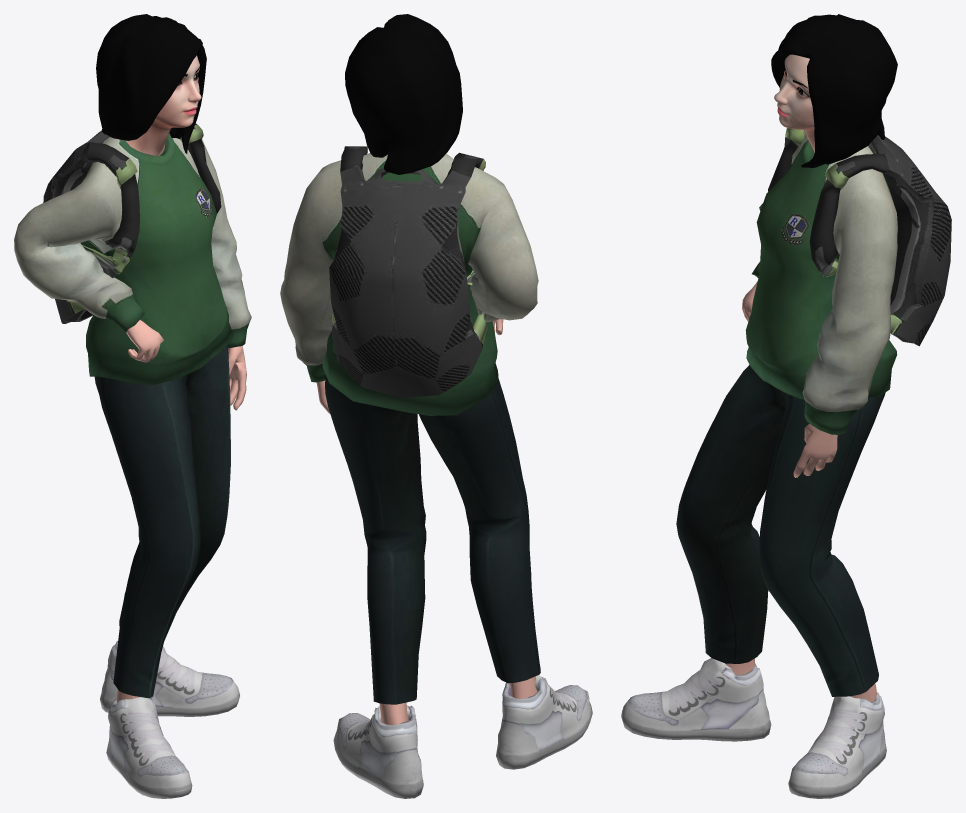
The model's file is green.glb.
The picture shows the model from 3 angles, left to right: view 1: azimuth 30°, elevation 25°; view 2: azimuth 150°, elevation 25°; view 3: azimuth 270°, elevation 25°; orthographic projection. The views are drawn at different scales.
Visible parts, largest first — view 1: Wolf3D_Outfit_Top.001, Wolf3D_Outfit_Bottom.001, Wolf3D_Outfit_Footwear.001, Wolf3D_Hair.001, Wolf3D_Head.001, Wolf3D_Body.001; view 2: Wolf3D_Outfit_Top.001, Wolf3D_Outfit_Bottom.001, Wolf3D_Hair.001, Wolf3D_Outfit_Footwear.001, Wolf3D_Body.001; view 3: Wolf3D_Outfit_Top.001, Wolf3D_Outfit_Bottom.001, Wolf3D_Outfit_Footwear.001, Wolf3D_Hair.001, Wolf3D_Head.001, Wolf3D_Body.001.
Boxes of the visible parts, bbox=[...] form: Wolf3D_Outfit_Top.001: bbox=[14, 123, 251, 384]; Wolf3D_Outfit_Bottom.001: bbox=[94, 345, 230, 698]; Wolf3D_Outfit_Footwear.001: bbox=[100, 641, 239, 798]; Wolf3D_Hair.001: bbox=[96, 14, 206, 153]; Wolf3D_Head.001: bbox=[126, 55, 201, 155]; Wolf3D_Body.001: bbox=[116, 320, 246, 702]; Wolf3D_Outfit_Top.001: bbox=[280, 146, 538, 415]; Wolf3D_Outfit_Bottom.001: bbox=[325, 375, 540, 704]; Wolf3D_Hair.001: bbox=[345, 14, 462, 174]; Wolf3D_Outfit_Footwear.001: bbox=[333, 674, 592, 798]; Wolf3D_Body.001: bbox=[316, 318, 537, 725]; Wolf3D_Outfit_Top.001: bbox=[745, 128, 951, 434]; Wolf3D_Outfit_Bottom.001: bbox=[676, 365, 885, 696]; Wolf3D_Outfit_Footwear.001: bbox=[621, 658, 886, 798]; Wolf3D_Hair.001: bbox=[771, 14, 897, 167]; Wolf3D_Head.001: bbox=[774, 54, 814, 152]; Wolf3D_Body.001: bbox=[725, 281, 876, 702].
Size of the model in its own units: 0.6002 by 1.78 by 0.7094.
8 materials, 6 textured.
